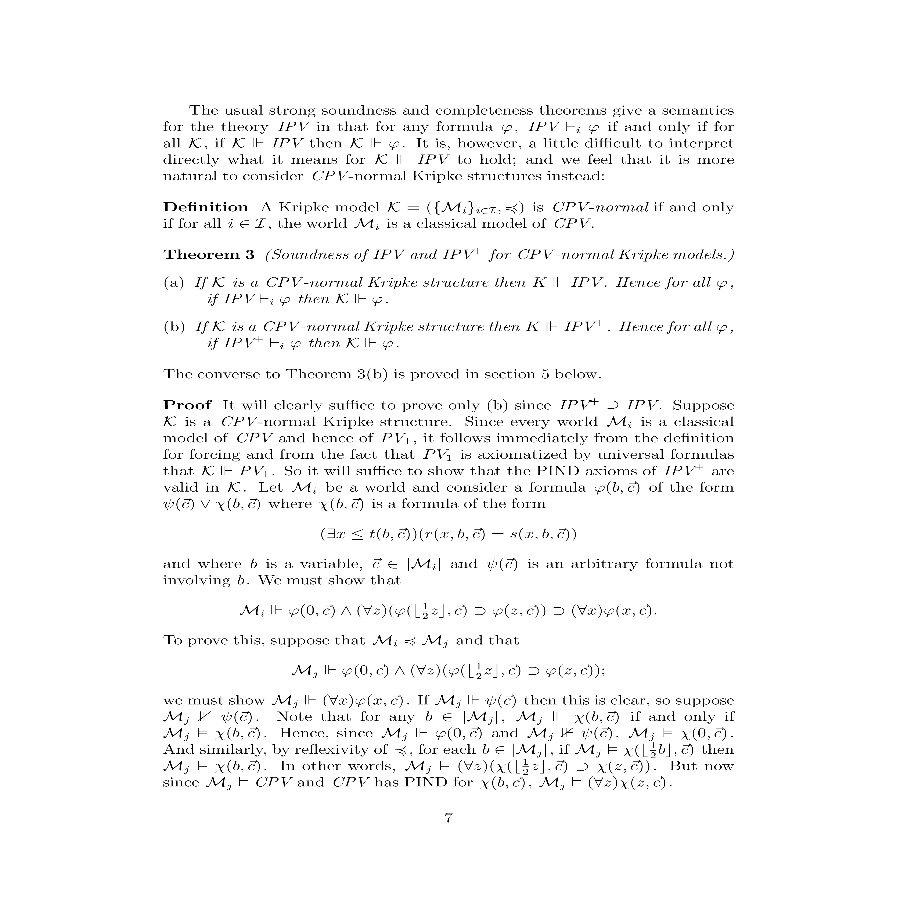eq: (237, 600, 654, 624), (290, 658, 601, 682), (314, 521, 583, 547)
